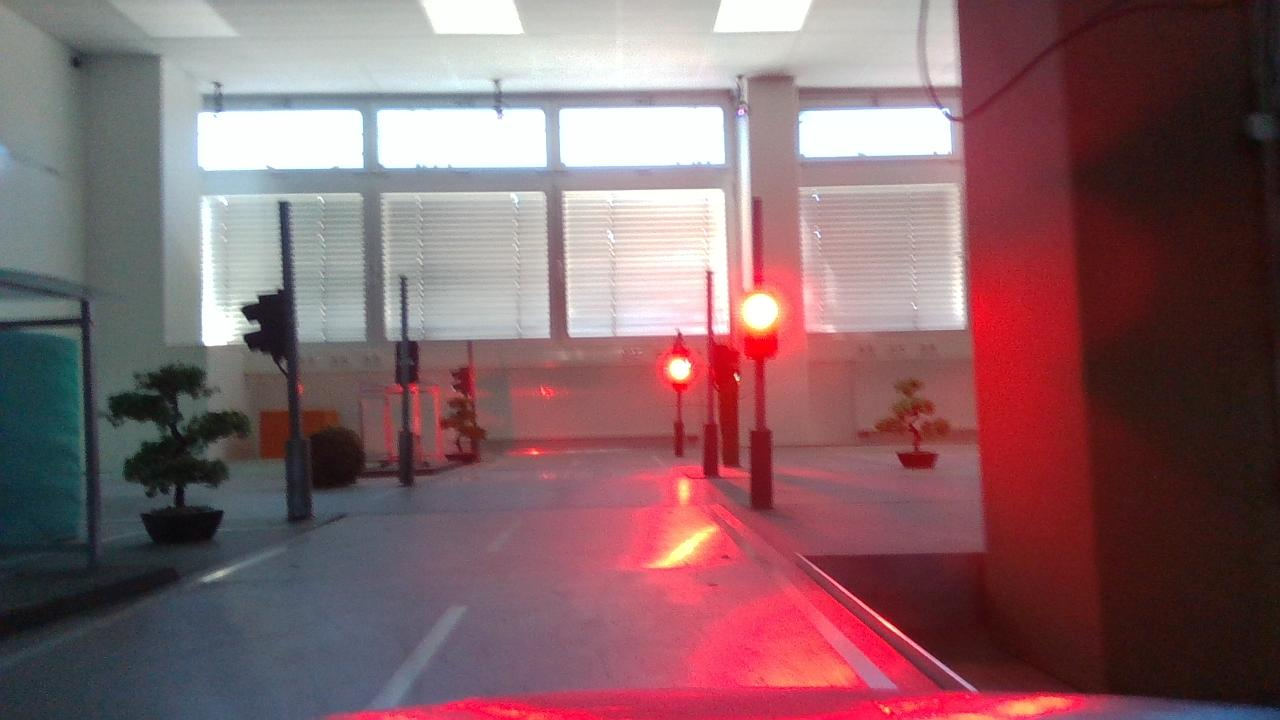traffic_light_red: (732, 284, 795, 370)
